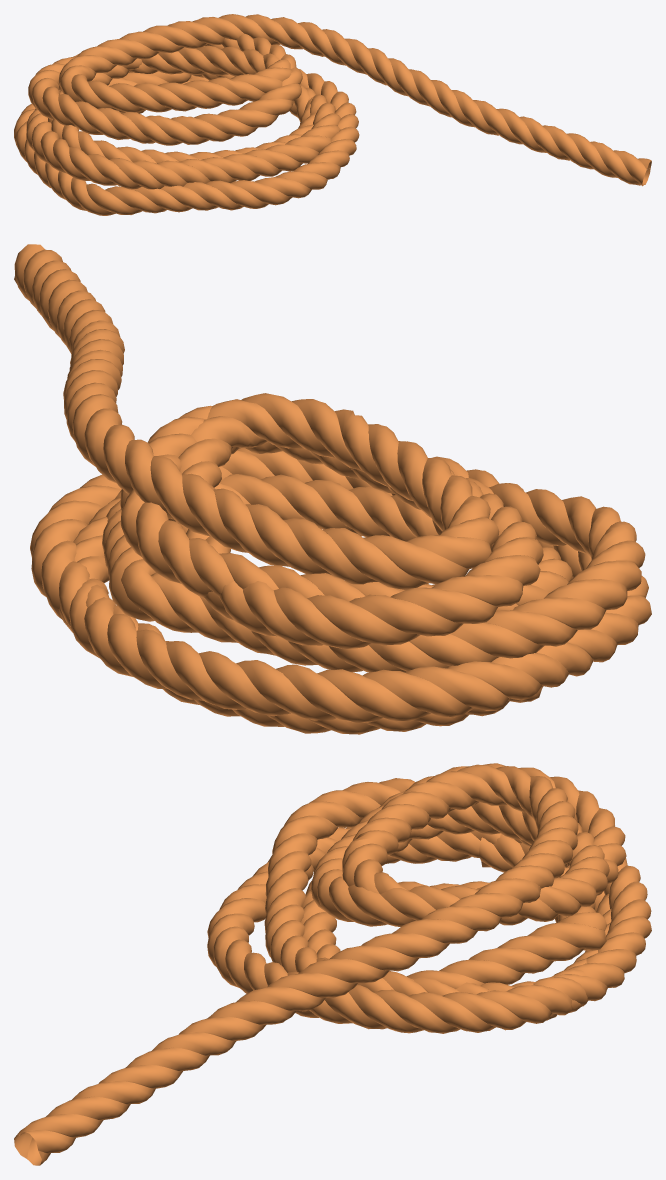
File: rope_3d_model.glb
The picture shows the model from 3 angles, top to bottom: view 1: azimuth 30°, elevation 25°; view 2: azimuth 150°, elevation 25°; view 3: azimuth 270°, elevation 25°; orthographic projection. The views are drawn at different scales.
Visible parts, largest first — view 1: Circle.002; view 2: Circle.002; view 3: Circle.002.
Part boxes in pixels (box(x1,y1,x2,y2)): Circle.002: box(14, 14, 651, 215); Circle.002: box(14, 244, 651, 734); Circle.002: box(14, 763, 651, 1165).
Size of the model in its own units: 3.74 by 0.7995 by 3.14.
